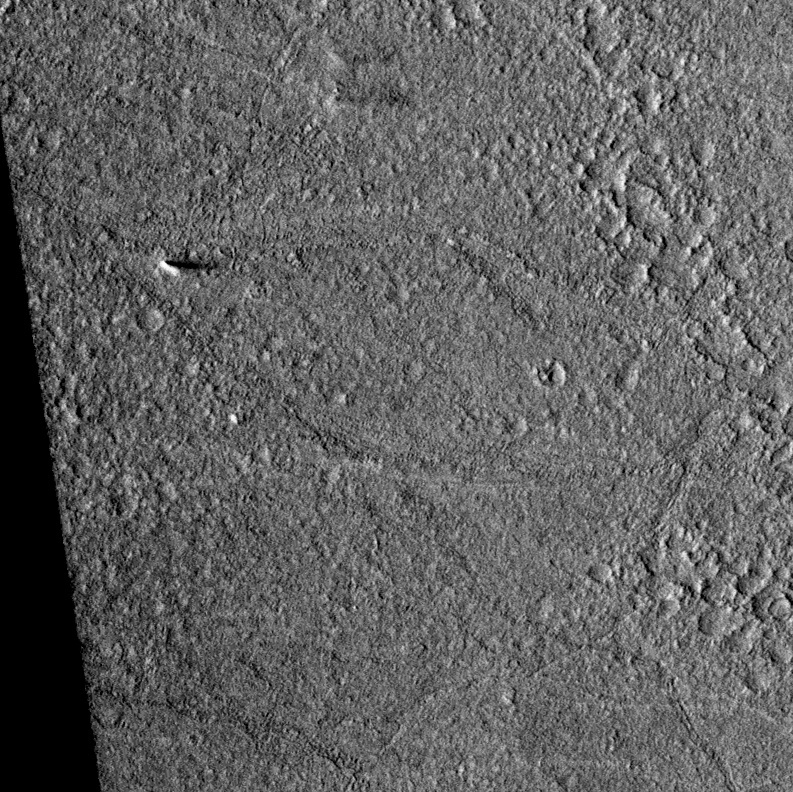dust_devil: (157, 258, 218, 278)
